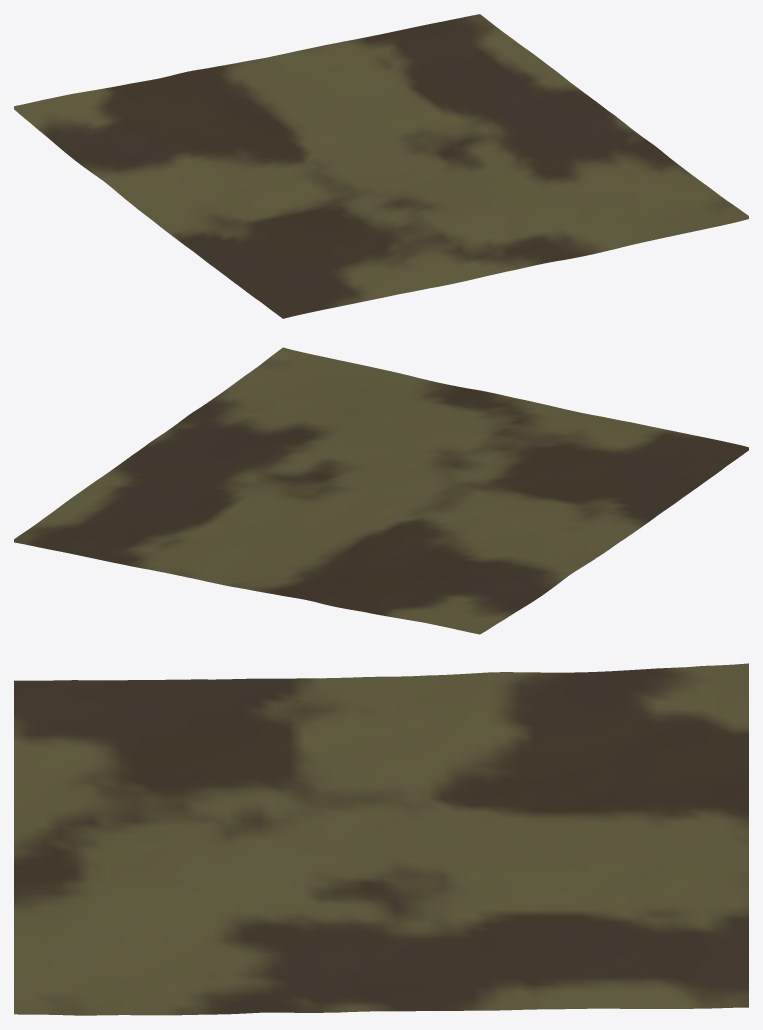
Rendered from land_m_02_00.glb.
3 renders of one model, top to bottom at view 1: azimuth 30°, elevation 25°; view 2: azimuth 150°, elevation 25°; view 3: azimuth 270°, elevation 25°, orthographic. The views are drawn at different scales.
Parts seen in each view (by area): view 1: land_m_02_00; view 2: land_m_02_00; view 3: land_m_02_00.
Part boxes in pixels (x1,y1,x2,y2): land_m_02_00: (14,14,748,318); land_m_02_00: (14,347,748,634); land_m_02_00: (14,663,748,1015).
Bounding box in the file's own units: 960 × 59.86 × 960.
